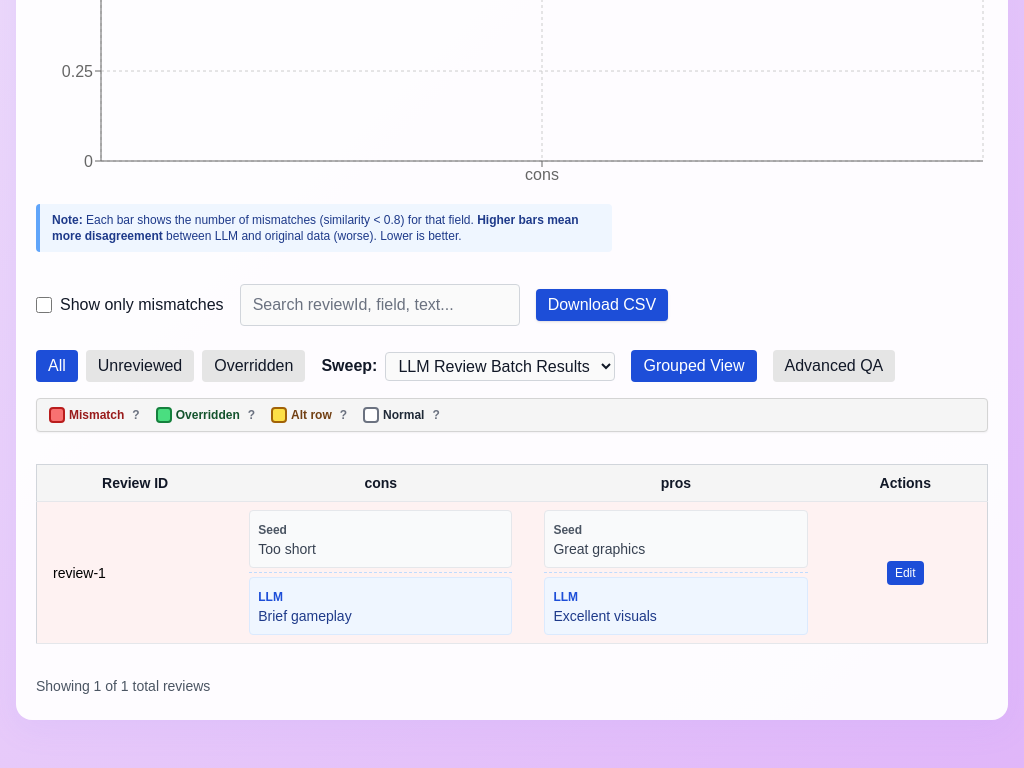
Test: Dashboard › closes edit modal when cancel is clicked
The width and height of the screenshot is (1024, 768).
(page scrolled)
Expected: the text "review-1" is shown, [36,502,233,644]
Step 1. Click the button "Edit" → (905, 572), box [887,560,924,584]
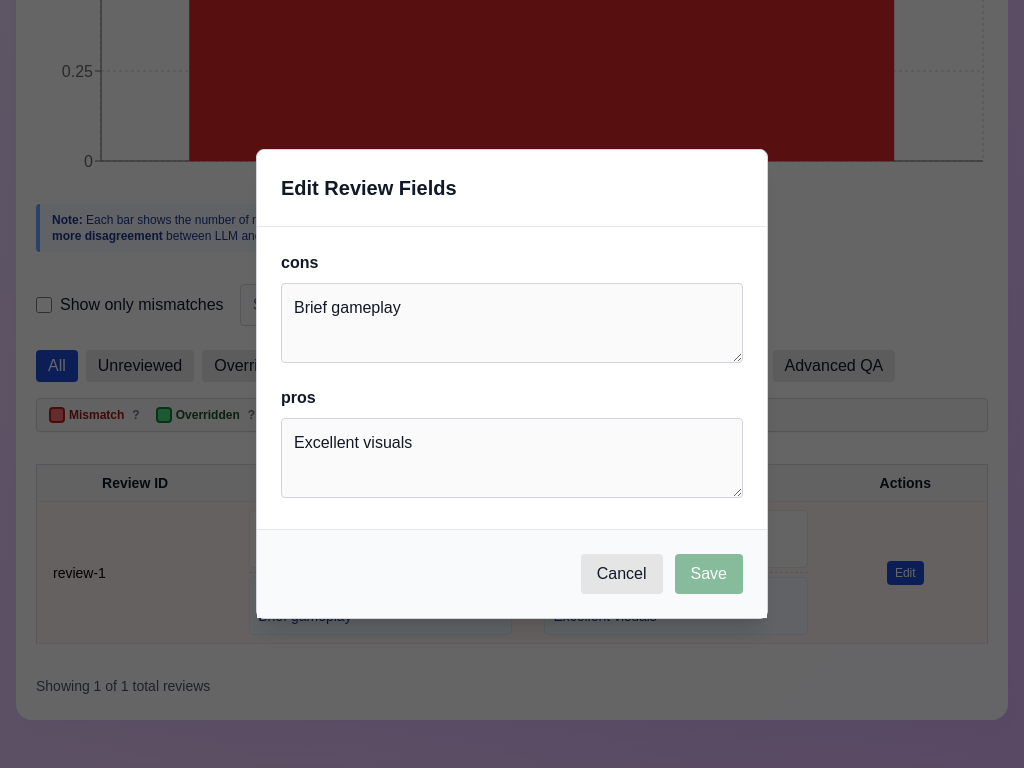
Expected: the heading "Edit Review Fields" is shown, [281,177,457,199]
Step 2. Click the button "Cancel" → (622, 574), box [581,554,662,594]
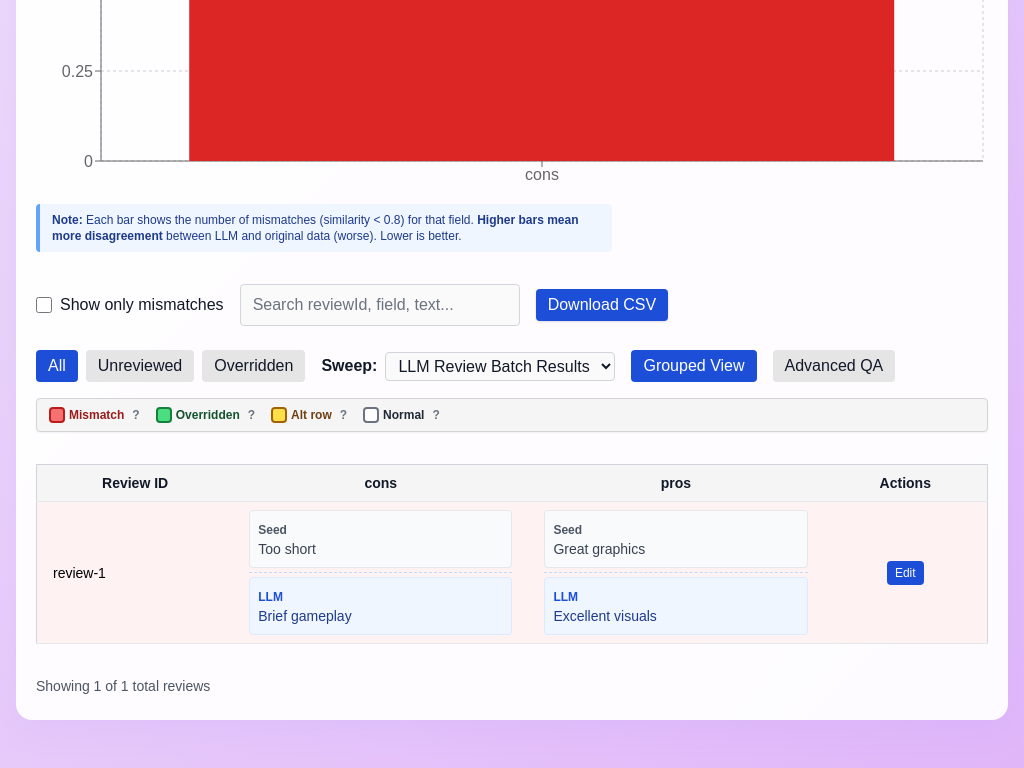
Expected: the heading "Edit Review Fields" is gone
